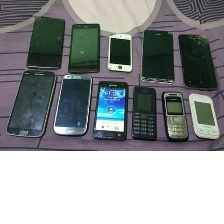phone: (3, 65, 59, 142), (52, 70, 94, 138), (176, 30, 222, 89), (24, 12, 67, 75), (92, 77, 131, 142), (136, 25, 176, 86), (63, 19, 105, 74), (183, 90, 222, 141), (158, 86, 192, 143), (128, 83, 159, 142), (105, 30, 136, 74)
